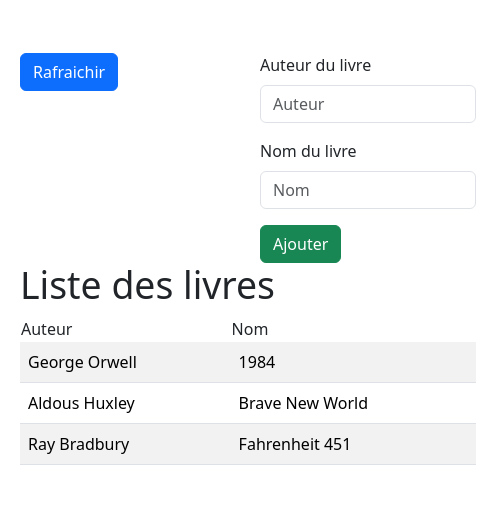
Scenario: Book Add Test › Should add book with valid name and author
The width and height of the screenshot is (497, 515).
Type "Lou" into the field with test id "book-add-name-field" at (368, 190), box [260, 171, 476, 209]
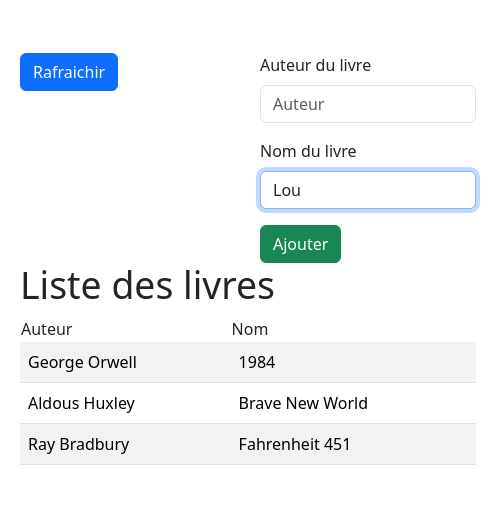
Type "Julien Neel" into the field with test id "book-add-author-field" at (368, 104), box [260, 85, 476, 123]
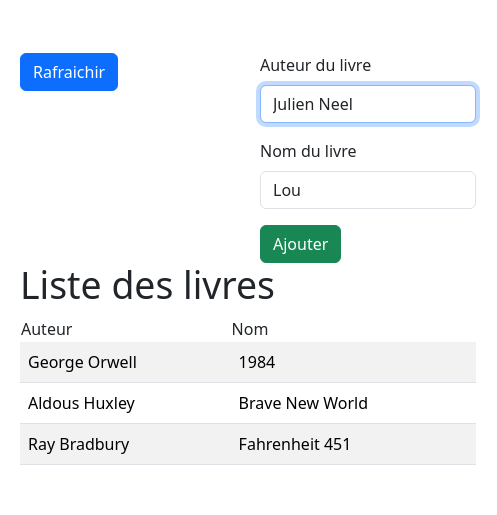
Click the button with test id "book-add-submit-button" at (301, 244), box [260, 225, 341, 263]
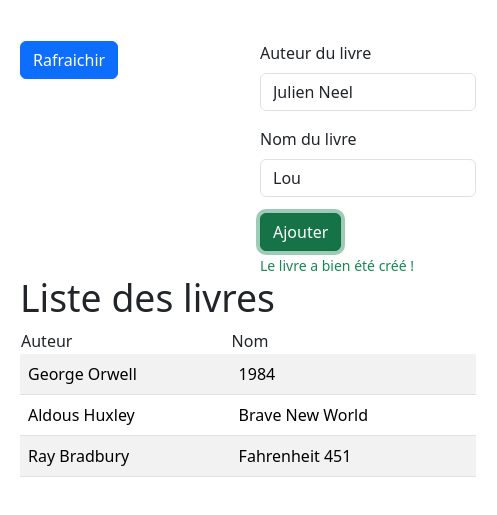
Expected: the text "Le livre a bien été créé !" is shown, [260, 256, 414, 275]
Click the button with test id "refresh-book-list-button" at (69, 60), box [20, 41, 118, 79]
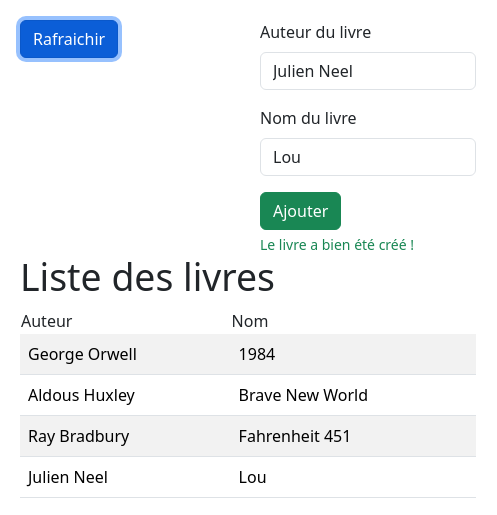
Expected: the number of rows with test id "book-list-table-row" is 4, [20, 334, 476, 374]; [20, 374, 476, 415]; [20, 415, 476, 456]; [20, 456, 476, 497]
